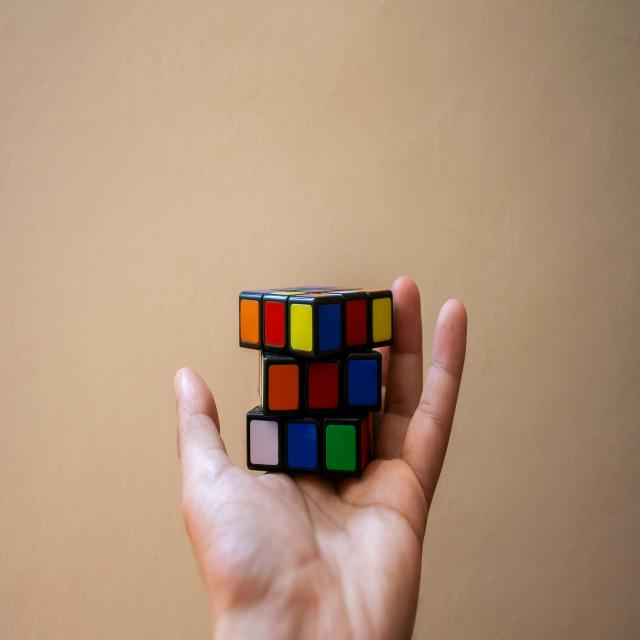Cubo-No-resuelto: (240, 282, 395, 475)
